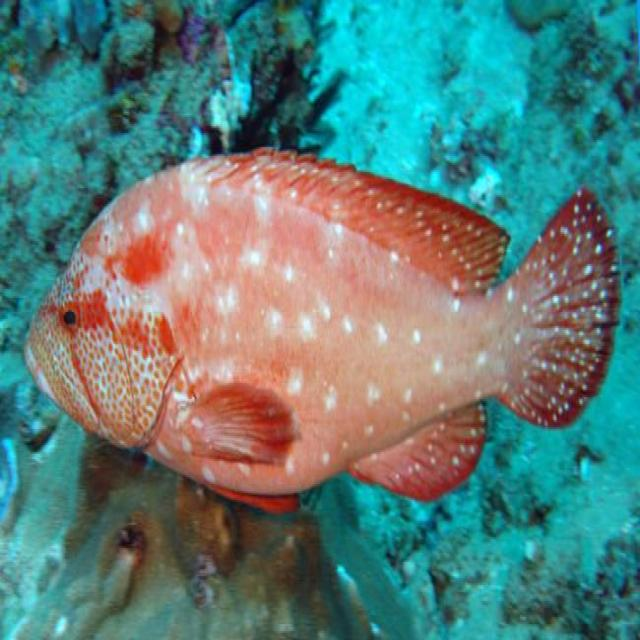ikan: (22, 144, 621, 514)
